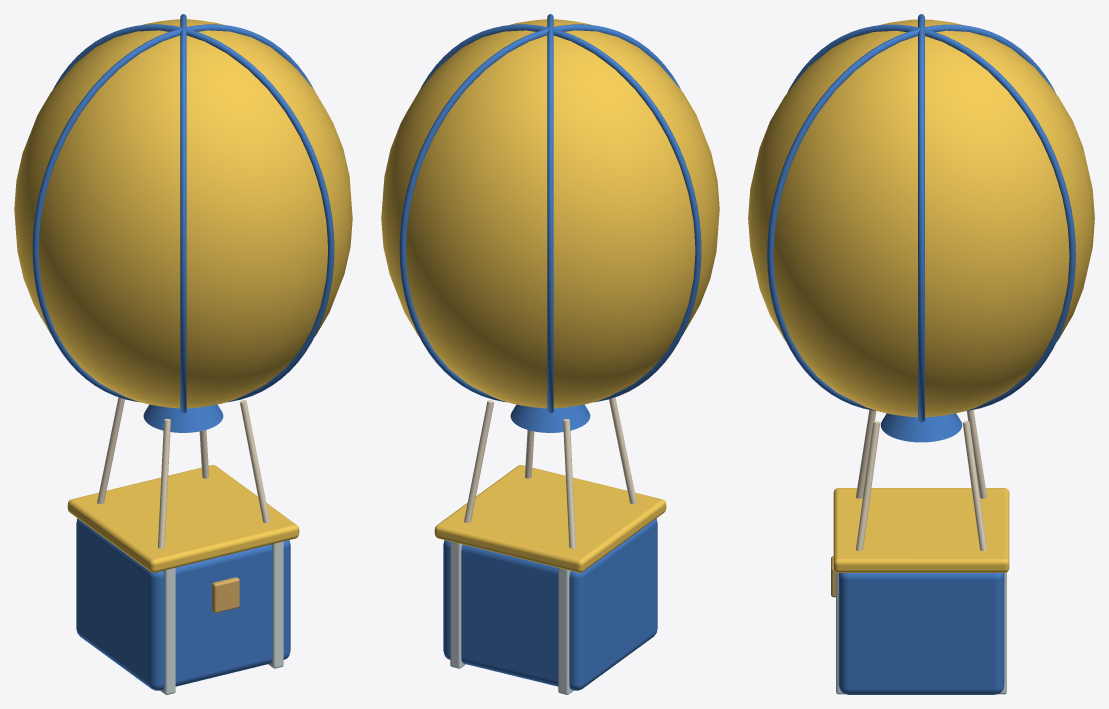
The model's file is fortnite.glb.
3 views of the same model, side by side, from view 1: azimuth 30°, elevation 25°; view 2: azimuth 150°, elevation 25°; view 3: azimuth 270°, elevation 25° (orthographic). The views are drawn at different scales.
Parts seen in each view (by area): view 1: Lift balloon, Supply container, Container lid, Balloon seam (×6), Crate brace (×2), Suspension cord (×3), Ring housing, Latch; view 2: Lift balloon, Supply container, Container lid, Balloon seam (×6), Crate brace (×2), Suspension cord (×3), Ring housing; view 3: Lift balloon, Supply container, Balloon seam (×6), Container lid, Suspension cord (×4), Ring housing, Crate brace.
Boxes of the visible parts, bbox=[...] form: Lift balloon: bbox=[14, 19, 352, 408]; Supply container: bbox=[76, 518, 290, 690]; Container lid: bbox=[67, 465, 299, 572]; Balloon seam (×6): bbox=[32, 14, 334, 413]; Crate brace (×2): bbox=[160, 541, 283, 694]; Suspension cord (×3): bbox=[97, 397, 269, 548]; Ring housing: bbox=[143, 404, 223, 432]; Latch: bbox=[212, 577, 239, 613]; Lift balloon: bbox=[381, 19, 719, 408]; Supply container: bbox=[443, 518, 657, 690]; Container lid: bbox=[434, 465, 666, 572]; Balloon seam (×6): bbox=[399, 14, 701, 413]; Crate brace (×2): bbox=[450, 541, 573, 694]; Suspension cord (×3): bbox=[464, 397, 636, 548]; Ring housing: bbox=[510, 404, 590, 432]; Lift balloon: bbox=[748, 19, 1094, 417]; Supply container: bbox=[838, 573, 1004, 694]; Balloon seam (×6): bbox=[767, 14, 1075, 422]; Container lid: bbox=[833, 488, 1009, 572]; Suspension cord (×4): bbox=[856, 410, 986, 551]; Ring housing: bbox=[880, 413, 962, 442]; Crate brace: bbox=[836, 572, 1006, 694].
Size of the model in its own units: 1.39 by 2.76 by 1.36.
